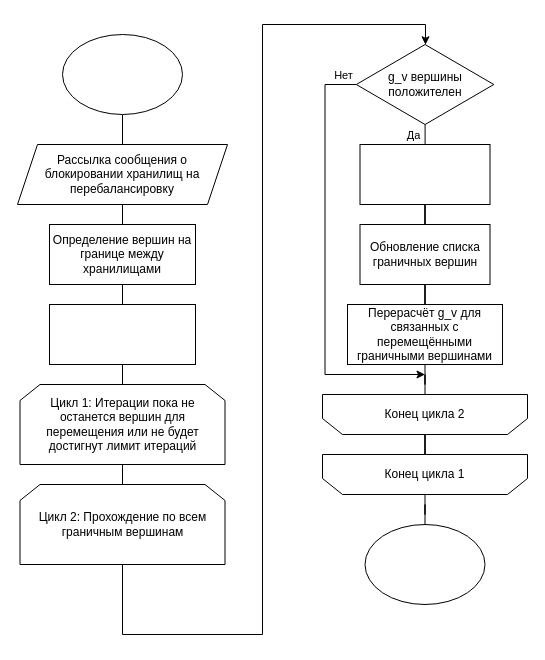
The diagram is 545 pixels wide and 660 high, and some of its shapes have lost their labels. Each missing label, with the centre of its shape:
Возврат: point 424,564
Перемещение вершины и пометка её как перемещённой: point 424,174
Расчёт g_v для всех граничных вершин: point 122,334
Хранилище: point 122,74
